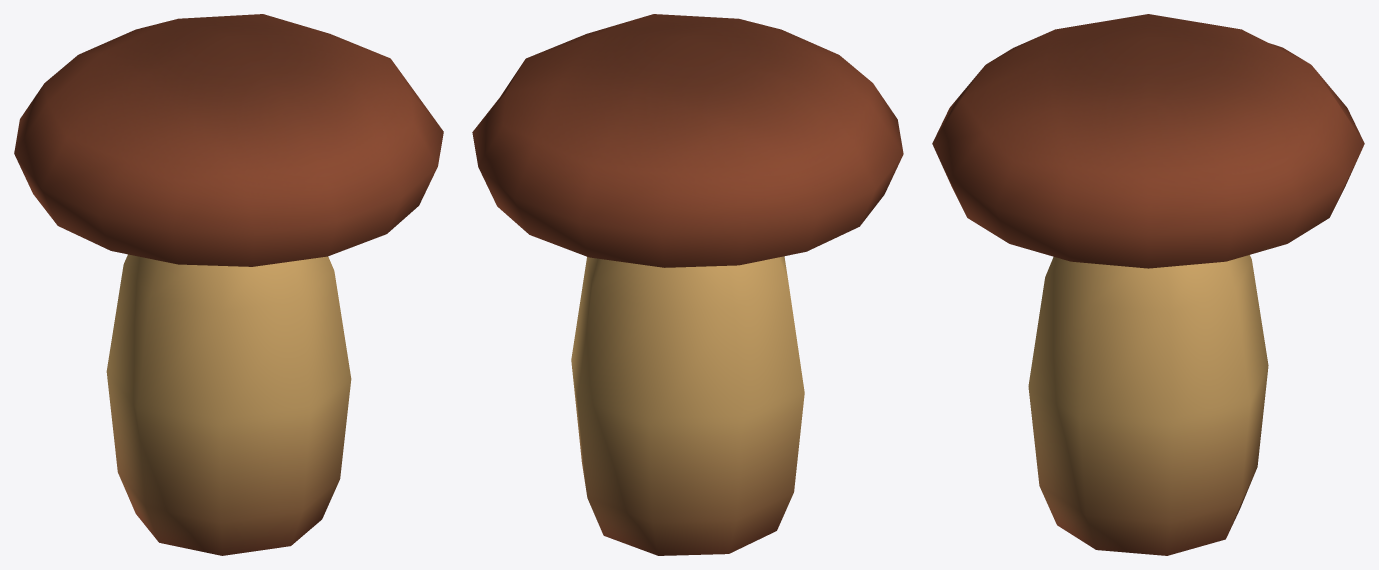
File: Bay_Bolete_Big.fbx
3 renders of one model, left to right at view 1: azimuth 30°, elevation 25°; view 2: azimuth 150°, elevation 25°; view 3: azimuth 270°, elevation 25°, orthographic.
Visible parts, largest first — view 1: Bay_Bolete_Big; view 2: Bay_Bolete_Big; view 3: Bay_Bolete_Big.
Boxes of the visible parts, left/top/right/bottom form: Bay_Bolete_Big: left=14, top=14, right=443, bottom=555; Bay_Bolete_Big: left=472, top=14, right=903, bottom=555; Bay_Bolete_Big: left=932, top=14, right=1364, bottom=555.
Bounding box in the file's own units: 13.42 × 16.41 × 13.42.
